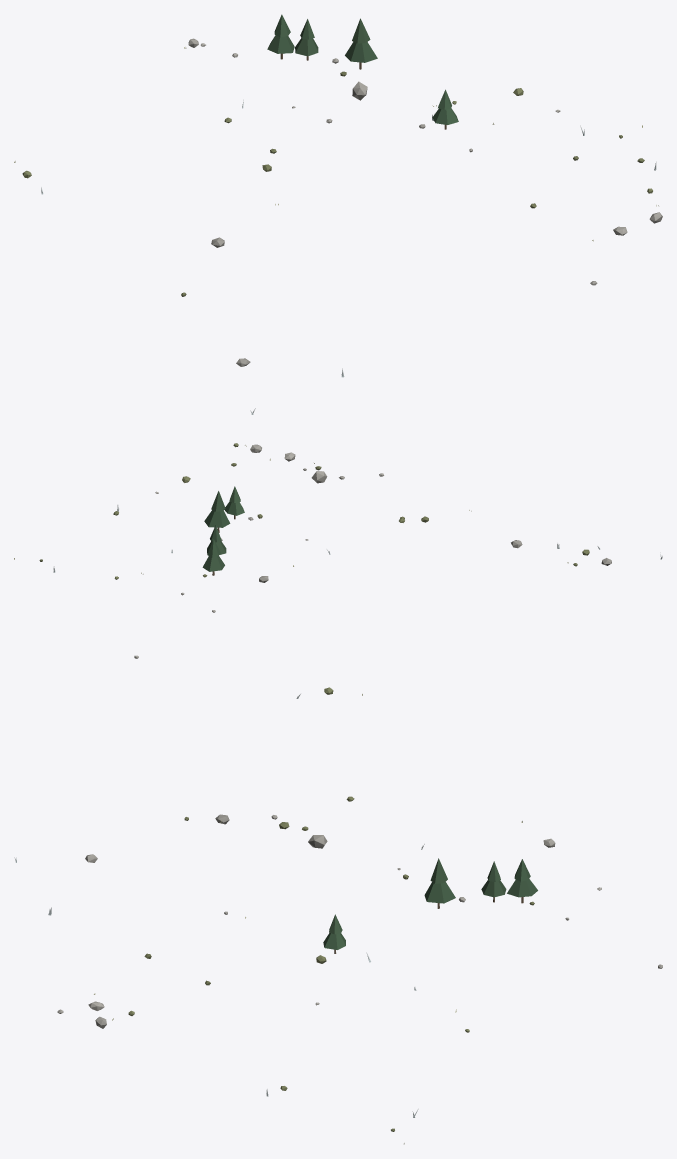
File: coast_land_scatter_c11_25_lod1.glb
3 renders of one model, top to bottom at view 1: azimuth 30°, elevation 25°; view 2: azimuth 150°, elevation 25°; view 3: azimuth 270°, elevation 25°, orthographic. The views are drawn at different scales.
Visible parts, largest first — view 1: coast_land_scatter_c11_25_lod1; view 2: coast_land_scatter_c11_25_lod1; view 3: coast_land_scatter_c11_25_lod1.
Boxes of the visible parts, x1=… form: coast_land_scatter_c11_25_lod1: x1=14, y1=14, x2=662, y2=414; coast_land_scatter_c11_25_lod1: x1=14, y1=443, x2=662, y2=658; coast_land_scatter_c11_25_lod1: x1=14, y1=687, x2=662, y2=1144.
Size of the model in its own units: 186 by 43.82 by 161.
